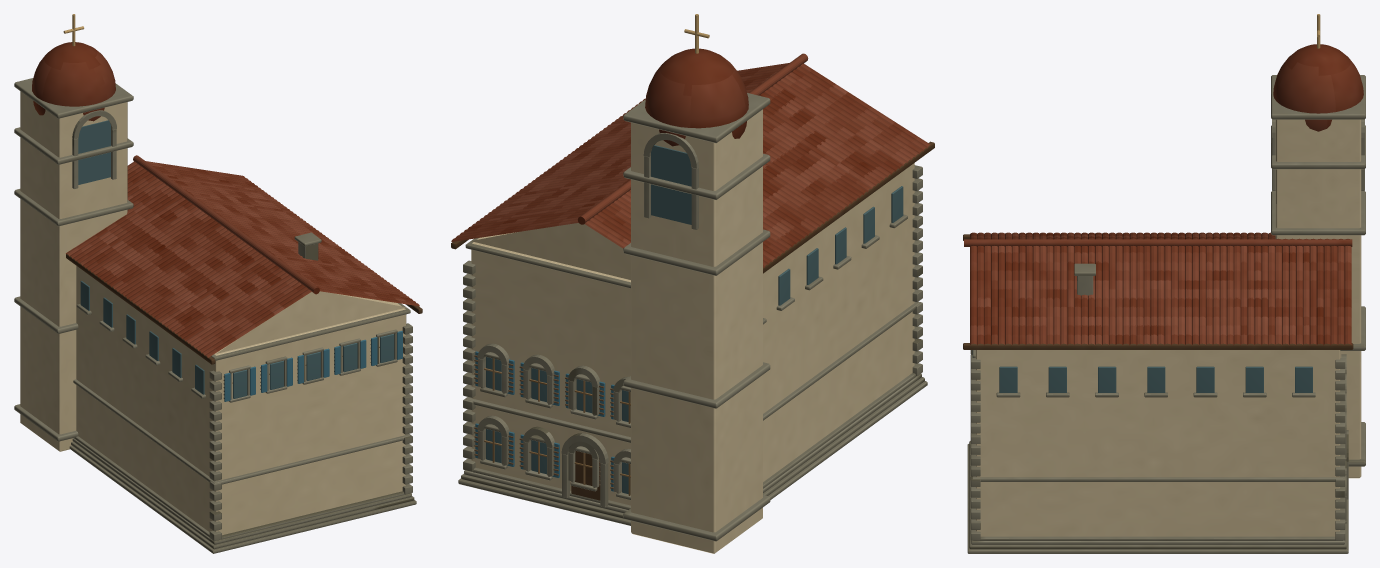
Rendered from building_church.glb.
The picture shows the model from 3 angles, left to right: view 1: azimuth 30°, elevation 25°; view 2: azimuth 150°, elevation 25°; view 3: azimuth 270°, elevation 25°; orthographic projection. The views are drawn at different scales.
Visible parts, largest first — view 1: stucco_volume, individual_barrel_roof_tiles, stepped_stone_plinth, window_recess, shutter, carved_double_door; view 2: stucco_volume, individual_barrel_roof_tiles, stepped_stone_plinth, window_recess, carved_double_door, shutter, mullion, shutter_louvre; view 3: stucco_volume, individual_barrel_roof_tiles, stepped_stone_plinth, window_recess, carved_double_door.
Part boxes in pixels (x1,y1,x2,y2): stucco_volume: (20, 91, 406, 535); individual_barrel_roof_tiles: (32, 42, 419, 357); stepped_stone_plinth: (14, 78, 416, 553); window_recess: (78, 120, 394, 398); shutter: (224, 331, 402, 401); carved_double_door: (66, 254, 422, 364); stucco_volume: (471, 109, 914, 553); individual_barrel_roof_tiles: (451, 48, 930, 267); stepped_stone_plinth: (458, 93, 927, 541); window_recess: (486, 145, 903, 494); carved_double_door: (451, 141, 934, 500); shutter: (475, 351, 614, 491); mullion: (484, 358, 630, 495); shutter_louvre: (474, 355, 613, 489); stucco_volume: (975, 119, 1361, 536); individual_barrel_roof_tiles: (964, 44, 1363, 345); stepped_stone_plinth: (967, 75, 1365, 553); window_recess: (972, 350, 1312, 392); carved_double_door: (963, 234, 1353, 349).
Bounding box in the file's own units: 15.12 × 27 × 22.1.
Materials: 9 (5 with a texture image).
